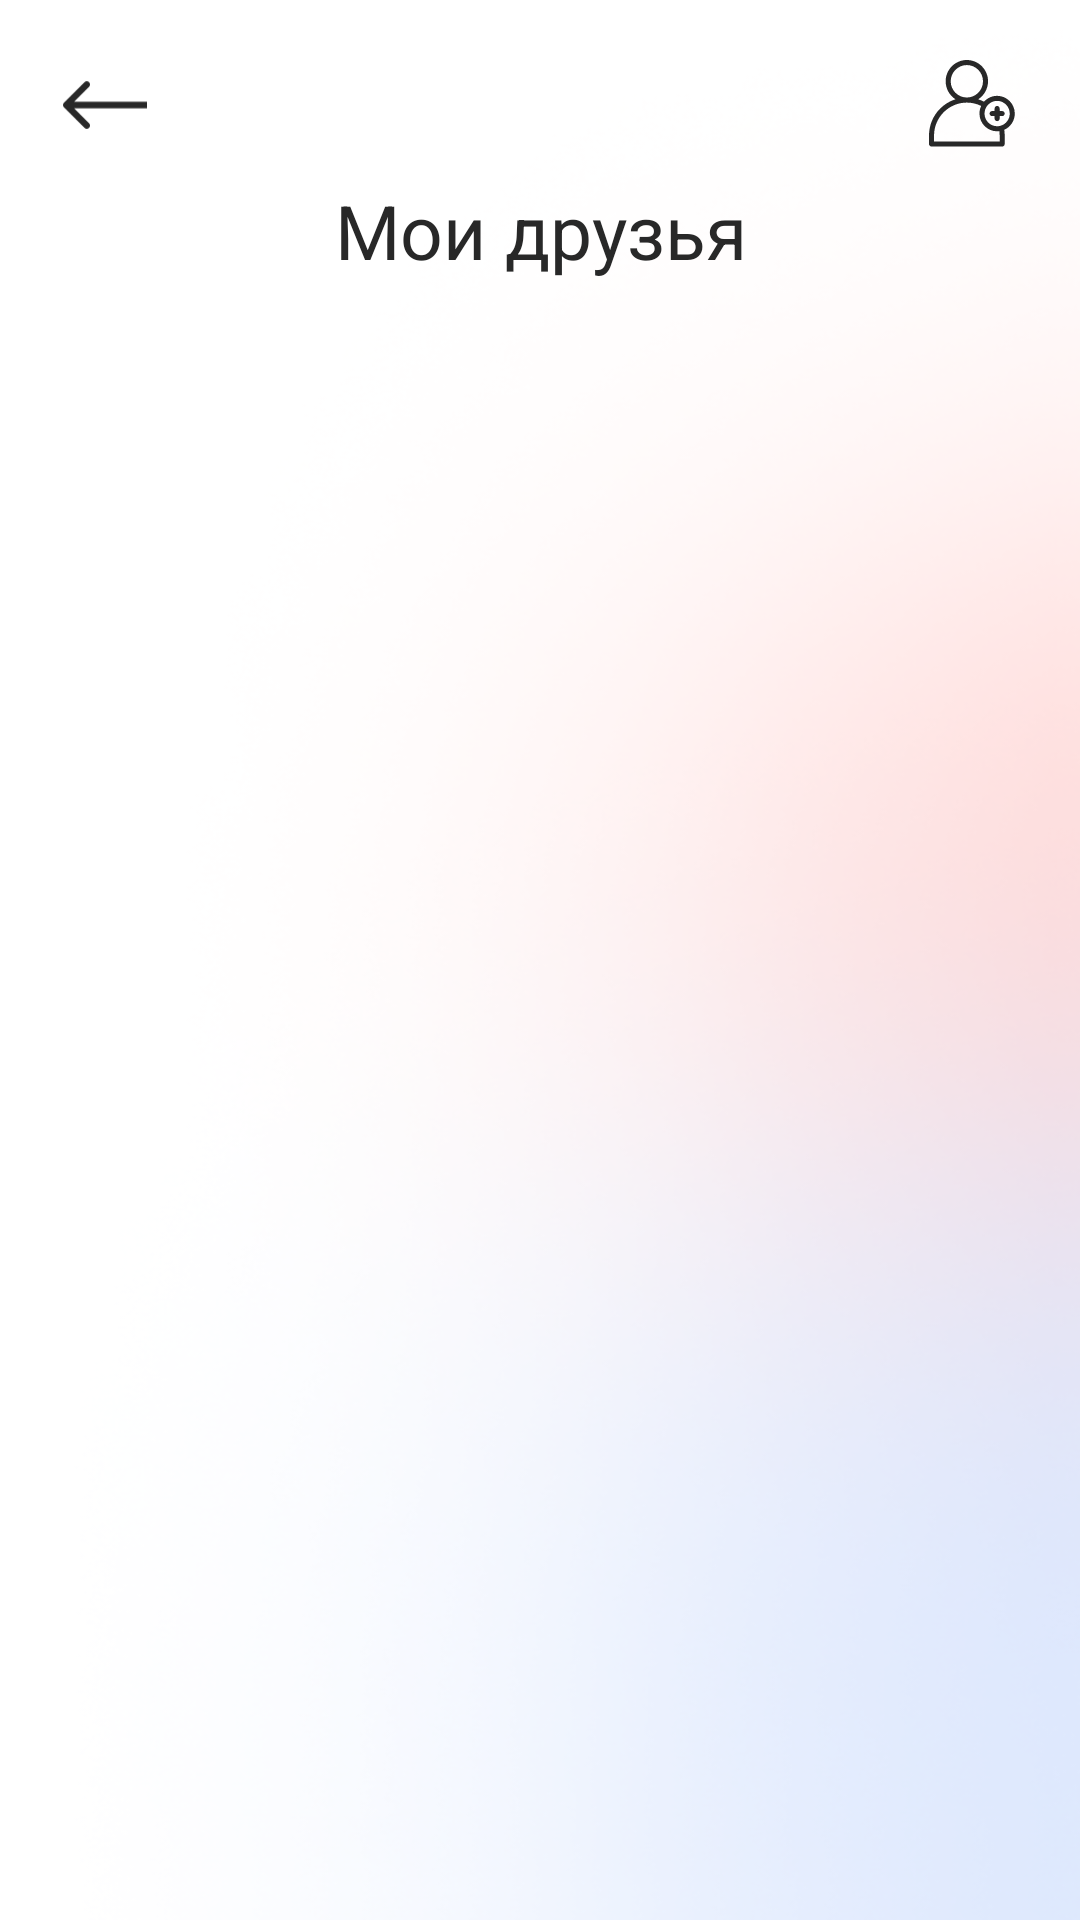

Screen size 1080px×1920px. Icon name, then its box in pixels as rect(x1, y1, x2, y2):
add friend: rect(929, 60, 1015, 147)
go back: rect(63, 81, 147, 129)
